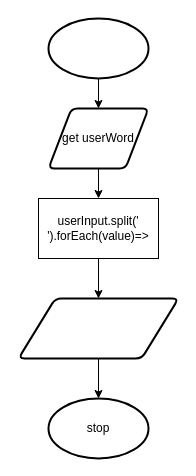
Image size: 196x476. Some labels were removed from this diagram. The centre of each missing label's shape, as x and y in pixels:
"retun maxAmount" belongs at (x=98, y=328).
"start" belongs at (x=98, y=48).
